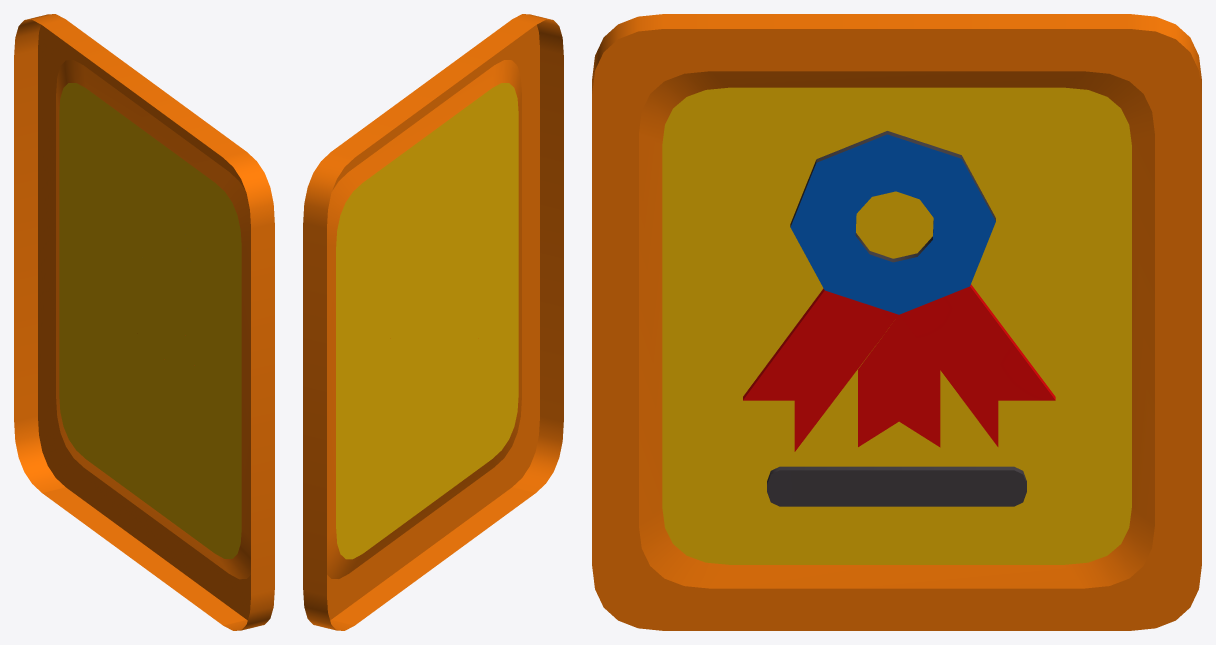
Rendered from Shield Board.fbx.
The picture shows the model from 3 angles, left to right: view 1: azimuth 30°, elevation 25°; view 2: azimuth 150°, elevation 25°; view 3: azimuth 270°, elevation 25°; orthographic projection. The views are drawn at different scales.
Visible parts, largest first — view 1: Shield Board; view 2: Shield Board; view 3: Shield Board.
Boxes of the visible parts, box(x1,y1,x2,y2) form: Shield Board: box(14, 14, 274, 630); Shield Board: box(303, 14, 563, 630); Shield Board: box(592, 14, 1201, 630).
Bounding box in the file's own units: 0.3216 × 6.06 × 5.56.
